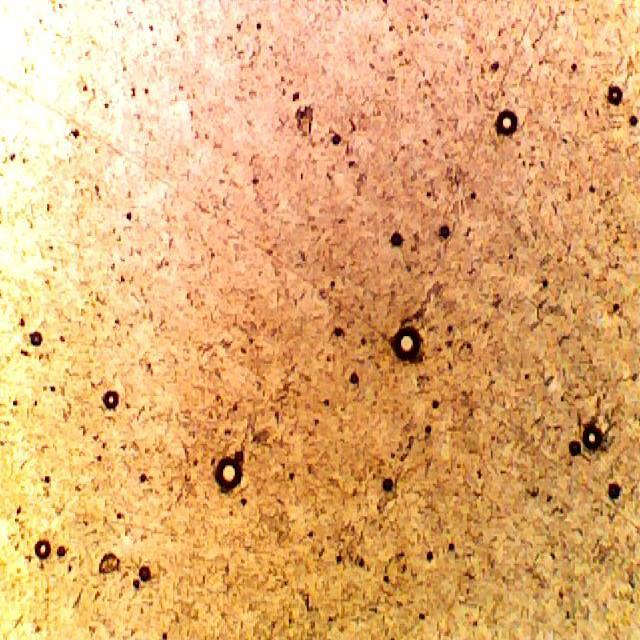microbeads: (212, 456, 244, 494), (390, 326, 422, 362)
